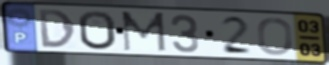2: (217, 16, 253, 55)
3: (169, 13, 200, 53)
D: (36, 8, 78, 49)
M: (119, 10, 169, 53)
O: (77, 10, 119, 52), (256, 16, 295, 57)
